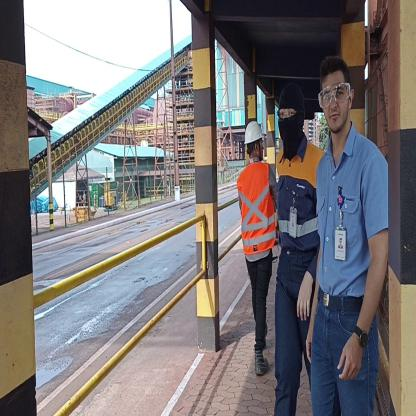Balaclava: (274, 81, 307, 156)
Capacete: (242, 119, 266, 140)
Operacional: (277, 153, 319, 248)
colete: (238, 168, 277, 250)
